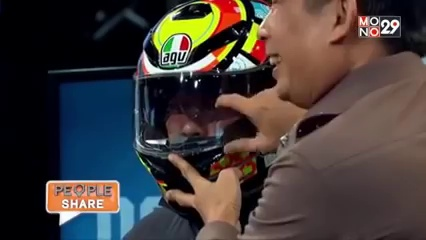helmet: (127, 7, 270, 187)
